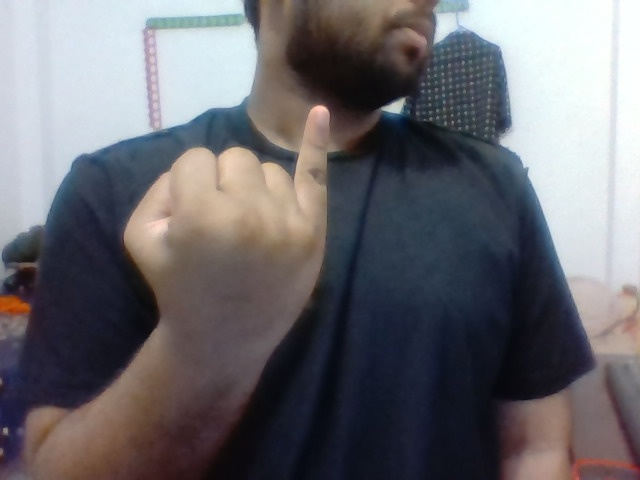I: (119, 102, 350, 330)
